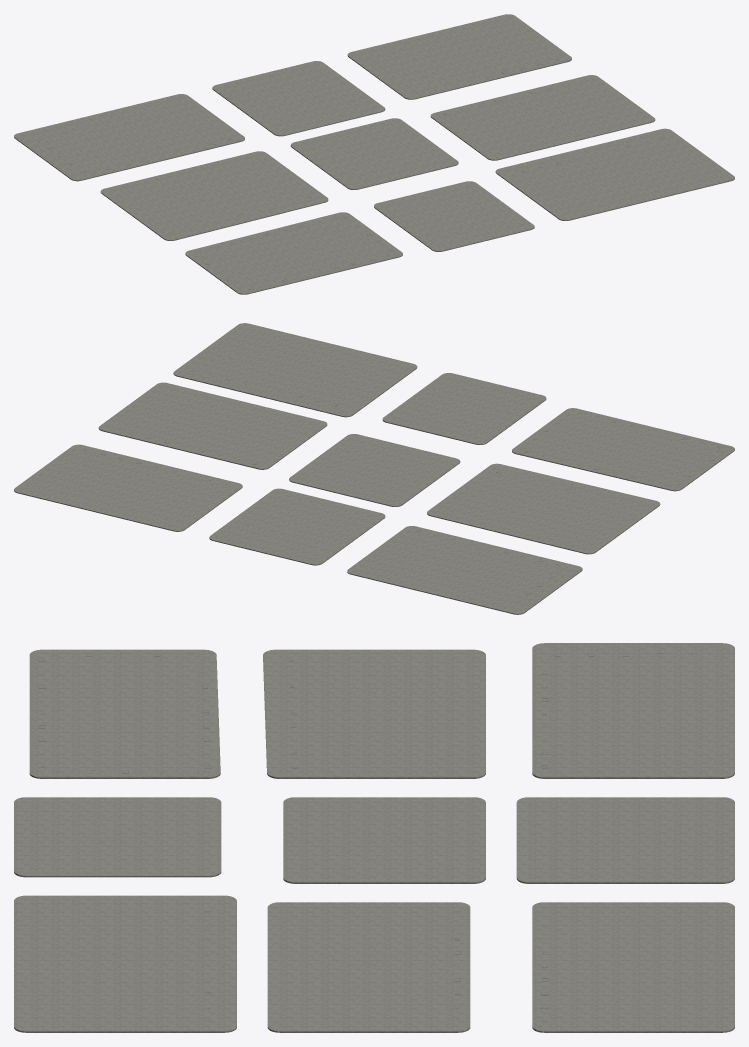
Rendered from sidewalk.gltf.
3 views of the same model, one above another, from view 1: azimuth 30°, elevation 25°; view 2: azimuth 150°, elevation 25°; view 3: azimuth 270°, elevation 25° (orthographic). The views are drawn at different scales.
Visible parts, largest first — view 1: Object_18.001; view 2: Object_18.001; view 3: Object_18.001.
Boxes of the visible parts, <box> form: Object_18.001: <box>14,14,734,294</box>; Object_18.001: <box>14,323,734,614</box>; Object_18.001: <box>14,643,734,1032</box>.
Bounding box in the file's own units: 221 × 0.454 × 174.
Materials: 3 (3 with a texture image).
